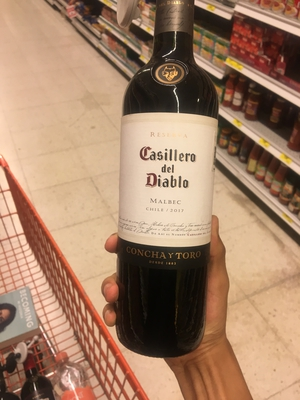casillero del diablo malbec: (117, 13, 237, 361)
